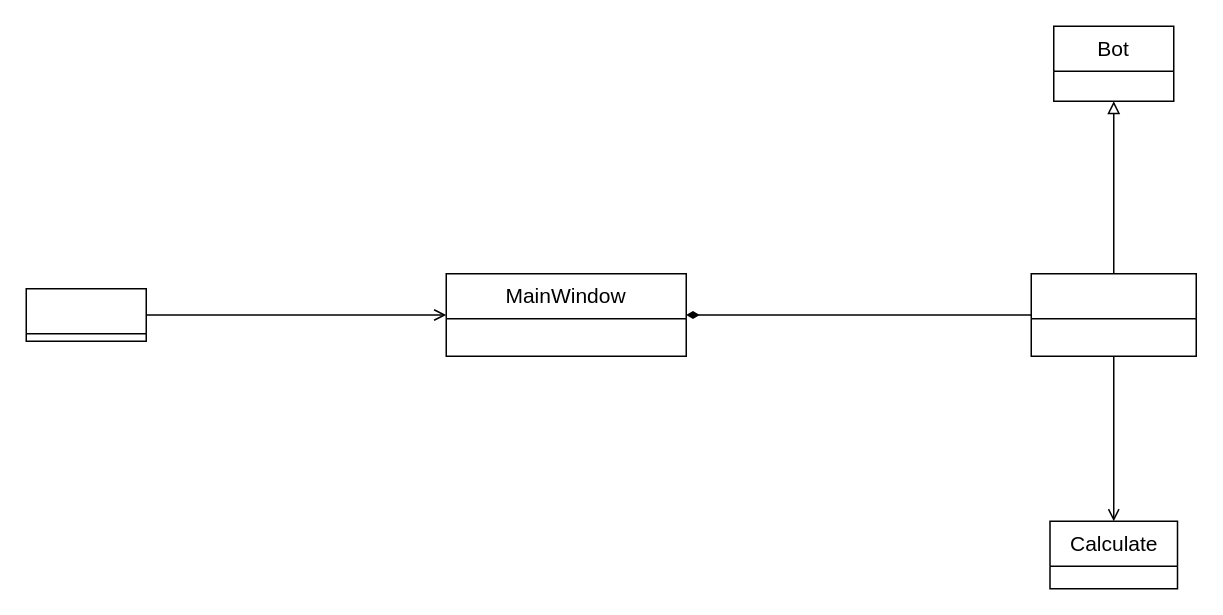
This 1223x615 diagram has some shape labels left out. The centre of each missing label's shape, as x and y in pixels:
ChatBot: pixel 1113 314
log_in: pixel 85 314
